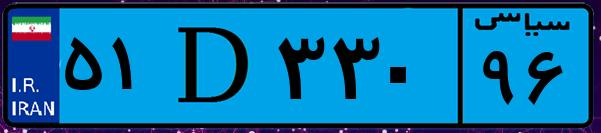0: (385, 28, 445, 110)
1: (110, 28, 158, 98)
3: (270, 28, 330, 110), (330, 28, 385, 110)
5: (57, 26, 110, 100)
6: (525, 38, 570, 115)
9: (475, 38, 525, 113)
D: (158, 12, 270, 120)
